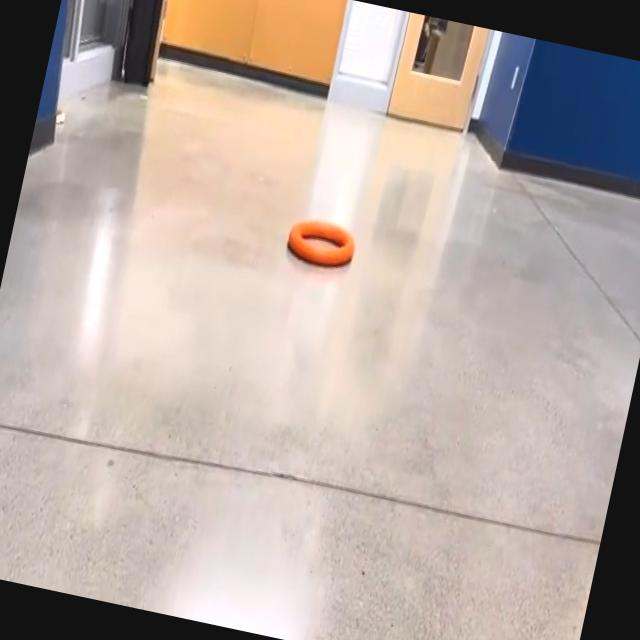note: (287, 219, 354, 265)
